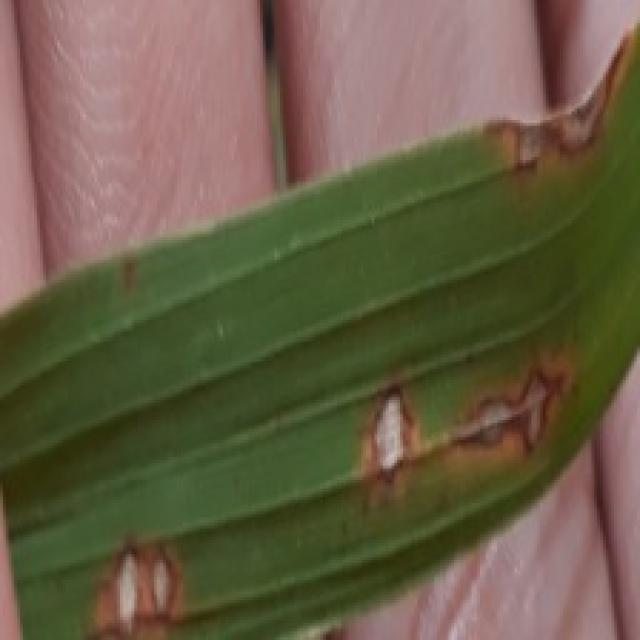Unhealthy: (480, 26, 639, 183), (440, 345, 579, 473), (89, 539, 185, 640), (355, 371, 424, 501), (119, 258, 136, 294)
